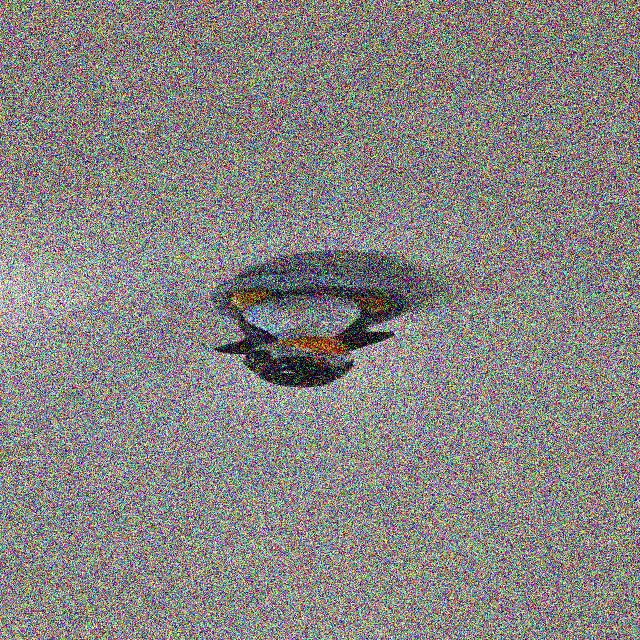Penguin: (200, 254, 434, 392)
